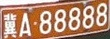A: (19, 13, 31, 37)
